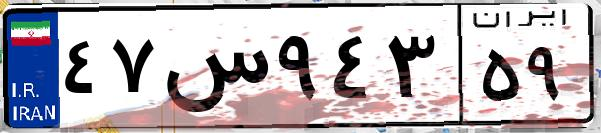3: (385, 28, 445, 110)
4: (330, 28, 385, 110), (57, 26, 110, 100)
5: (475, 38, 525, 113)
7: (110, 28, 158, 98)
9: (270, 28, 330, 110), (525, 38, 570, 115)
س: (158, 20, 270, 120)
